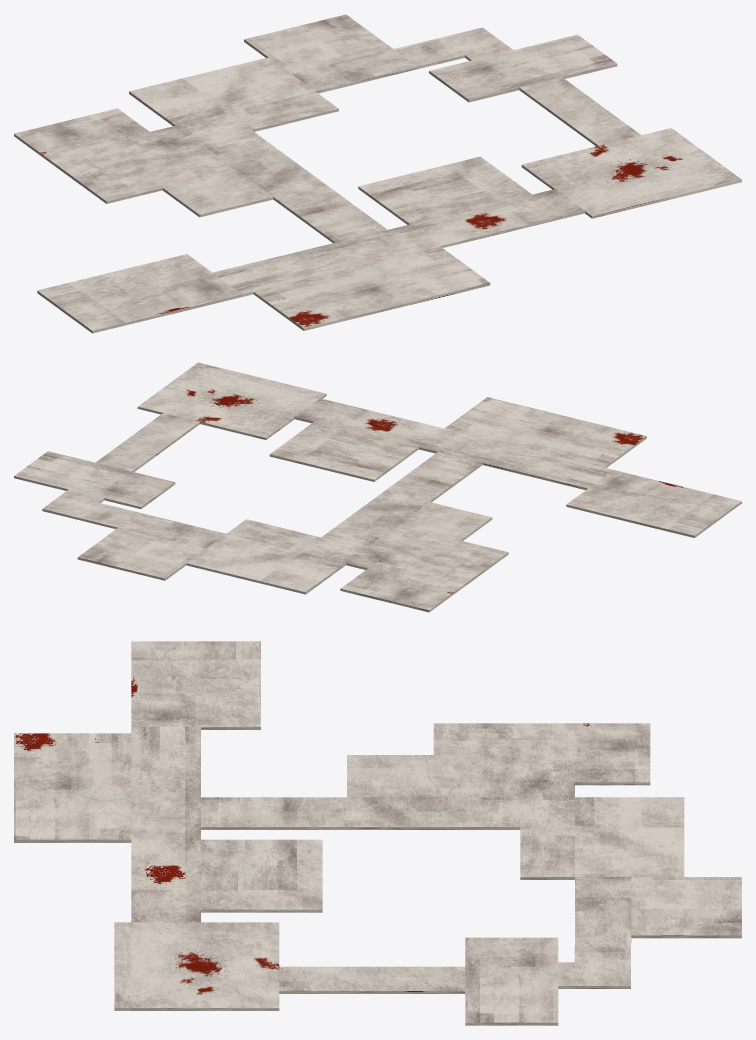
The model's file is piso3.fbx.
3 renders of one model, top to bottom at view 1: azimuth 30°, elevation 25°; view 2: azimuth 150°, elevation 25°; view 3: azimuth 270°, elevation 25°, orthographic. The views are drawn at different scales.
Visible parts, largest first — view 1: pisop1; view 2: pisop1; view 3: pisop1.
Part boxes in pixels (bbox=[...]): pisop1: bbox=[14, 14, 741, 333]; pisop1: bbox=[14, 362, 741, 612]; pisop1: bbox=[14, 641, 741, 1025].
Size of the model in its own units: 5132 by 19.38 by 4143.
